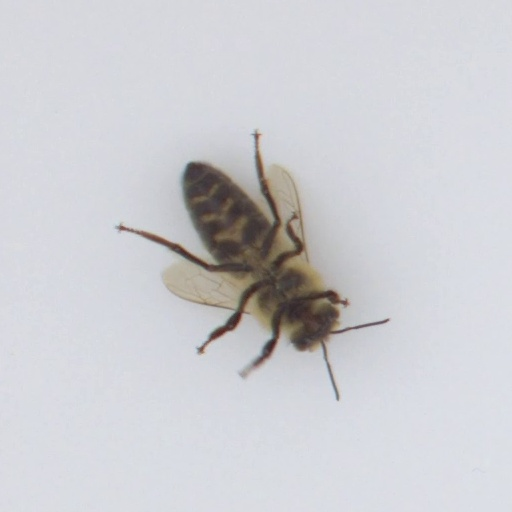Bee: (153, 149, 354, 365)
